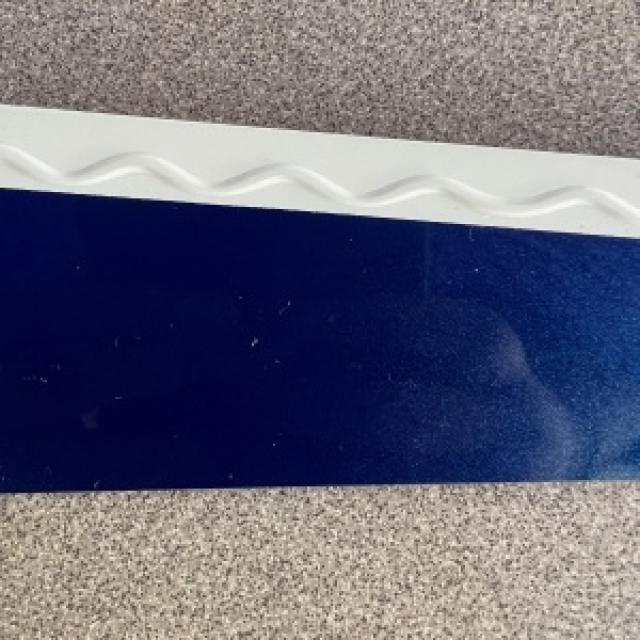healthy: (0, 102, 638, 491)
